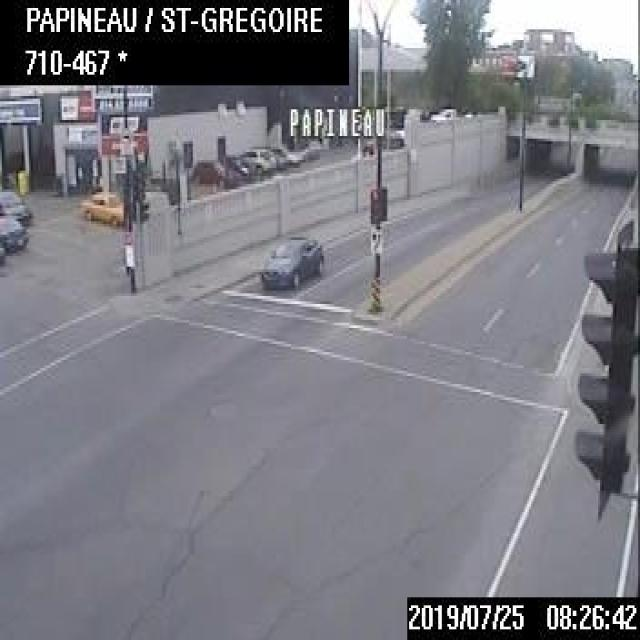vehicle: (256, 229, 322, 291), (80, 186, 123, 225), (190, 154, 238, 188), (0, 214, 33, 254), (235, 142, 275, 174), (0, 191, 33, 225)
